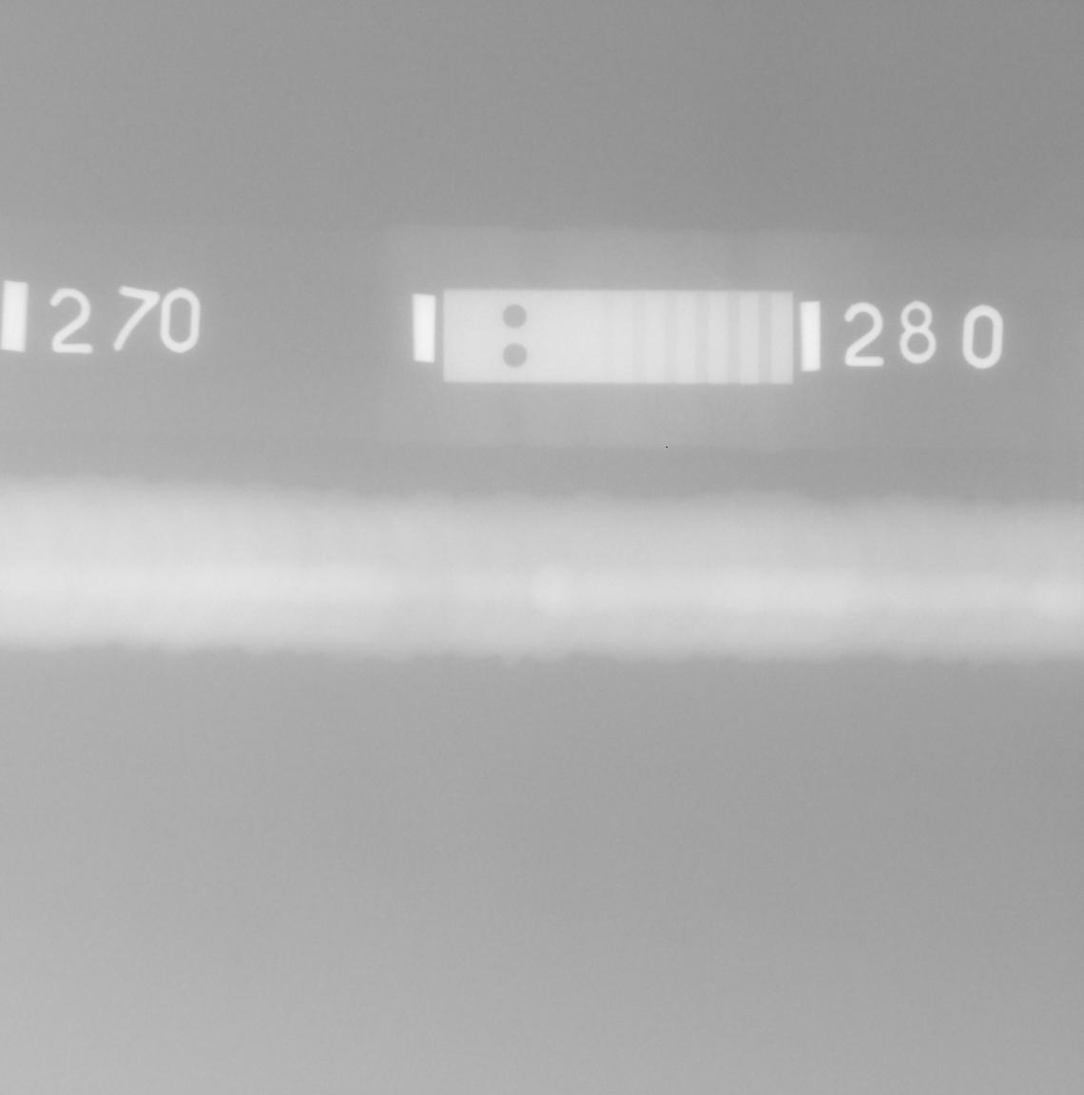Reference Standard 2: (443, 289, 794, 383)
